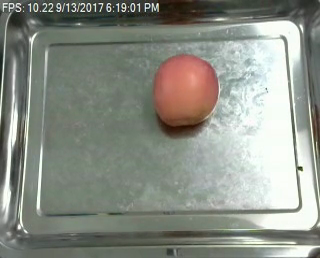Apple: (147, 52, 224, 129)
